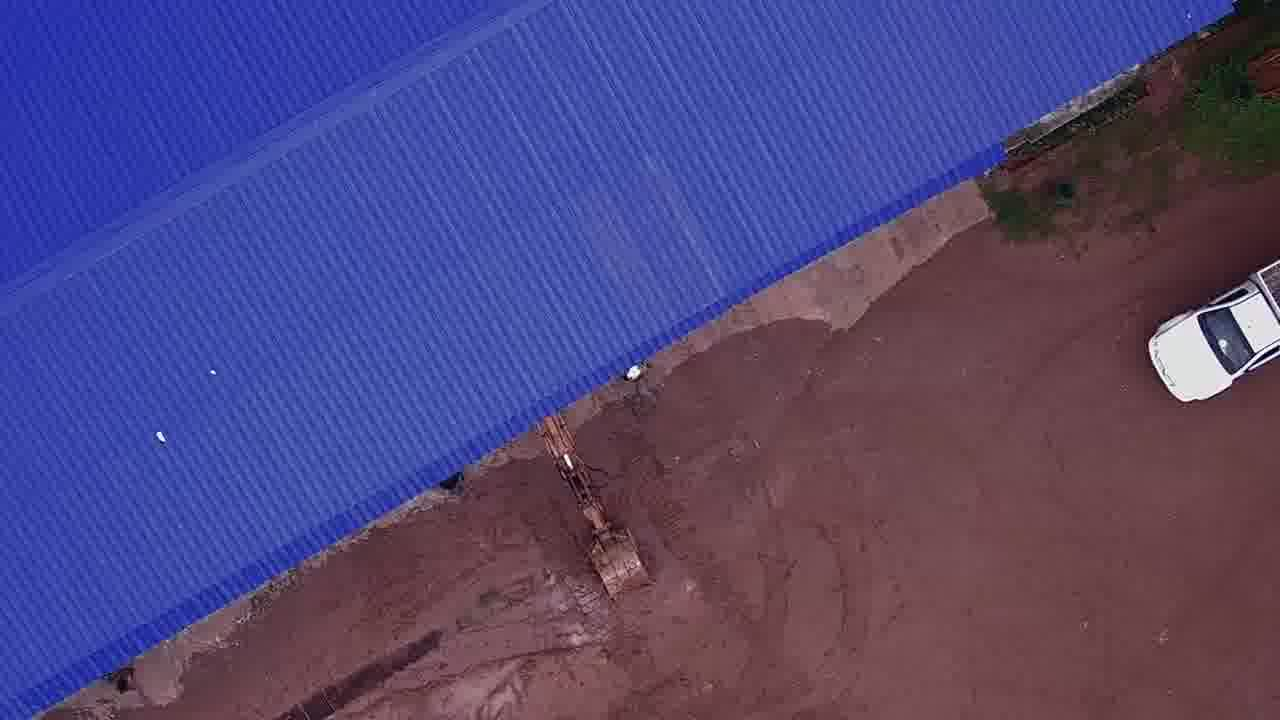LMV: (1145, 244, 1280, 417)
